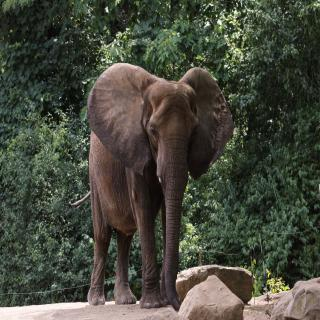Elephant: (70, 60, 237, 318)
